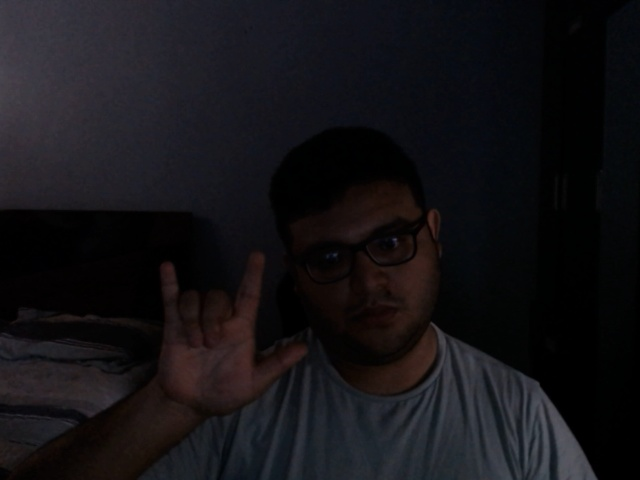I love you: (150, 247, 310, 423)
